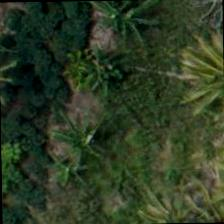Kelapa_Sawit: (128, 175, 220, 223)
